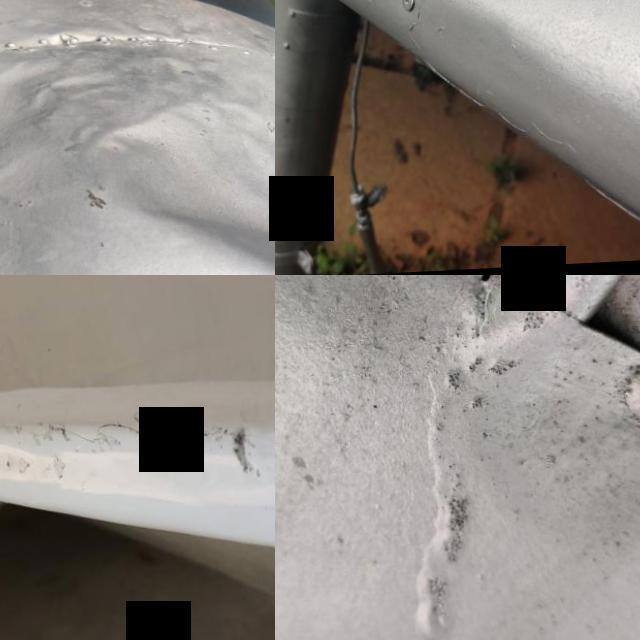Crack: (0, 425, 251, 455), (453, 275, 518, 304)
Dent: (103, 55, 275, 275), (0, 37, 82, 140)
